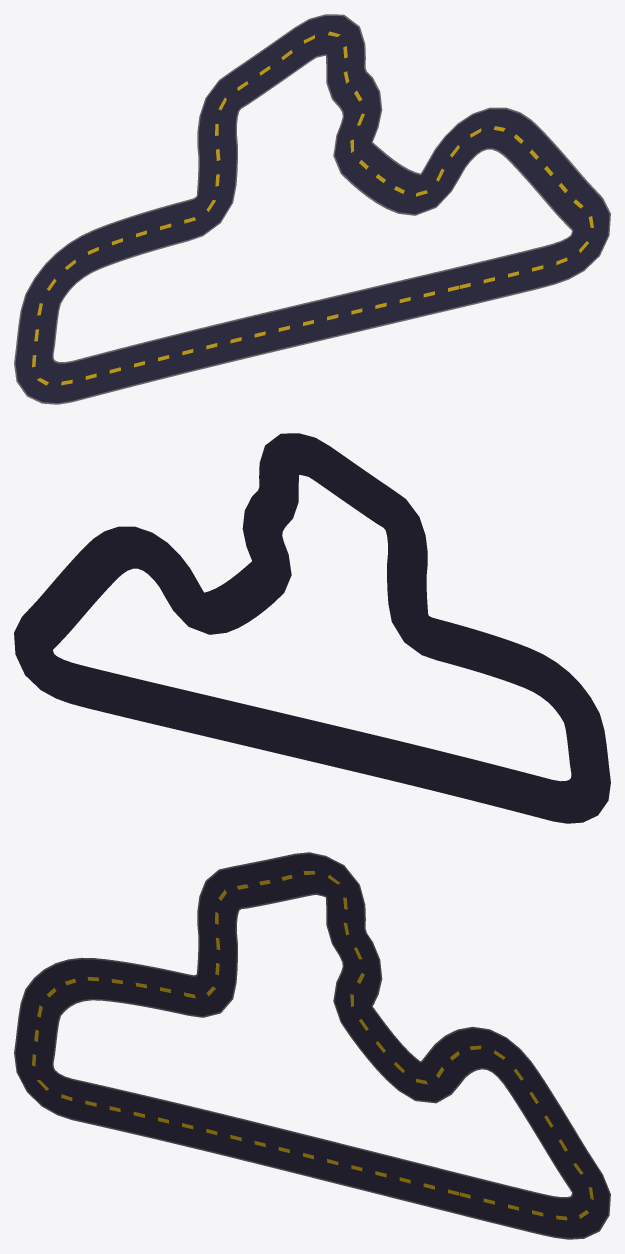
Rendered from track.obj.
The picture shows the model from 3 angles, top to bottom: view 1: azimuth 30°, elevation 25°; view 2: azimuth 150°, elevation 25°; view 3: azimuth 330°, elevation 25°; orthographic projection.
Size of the model in its own units: 16.06 by 8.4 by 0.002.
